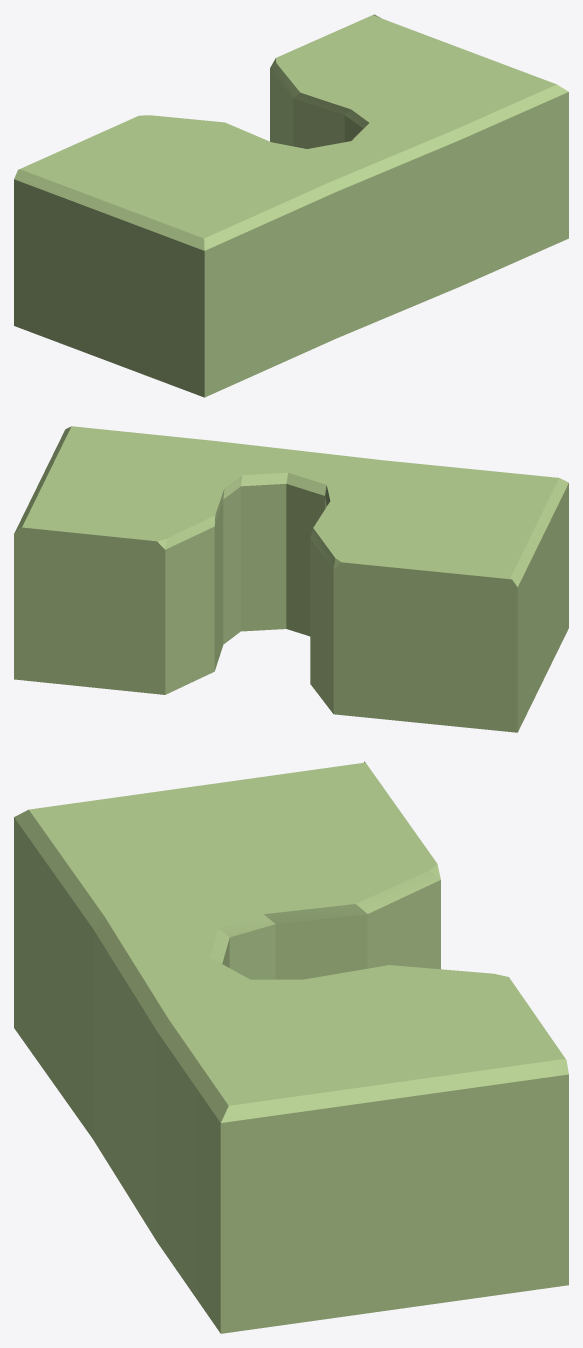
File: Platform_Forest_Bell_Cube.fbx
3 views of the same model, one above another, from view 1: azimuth 30°, elevation 25°; view 2: azimuth 150°, elevation 25°; view 3: azimuth 270°, elevation 25° (orthographic). The views are drawn at different scales.
Visible parts, largest first — view 1: Platform_Forest_Bell_Cube; view 2: Platform_Forest_Bell_Cube; view 3: Platform_Forest_Bell_Cube.
Boxes of the visible parts, box(x1,y1,x2,y2) form: Platform_Forest_Bell_Cube: box(14, 14, 568, 397); Platform_Forest_Bell_Cube: box(14, 426, 568, 732); Platform_Forest_Bell_Cube: box(14, 761, 568, 1333).
Size of the model in its own units: 68.64 by 20 by 45.4.
